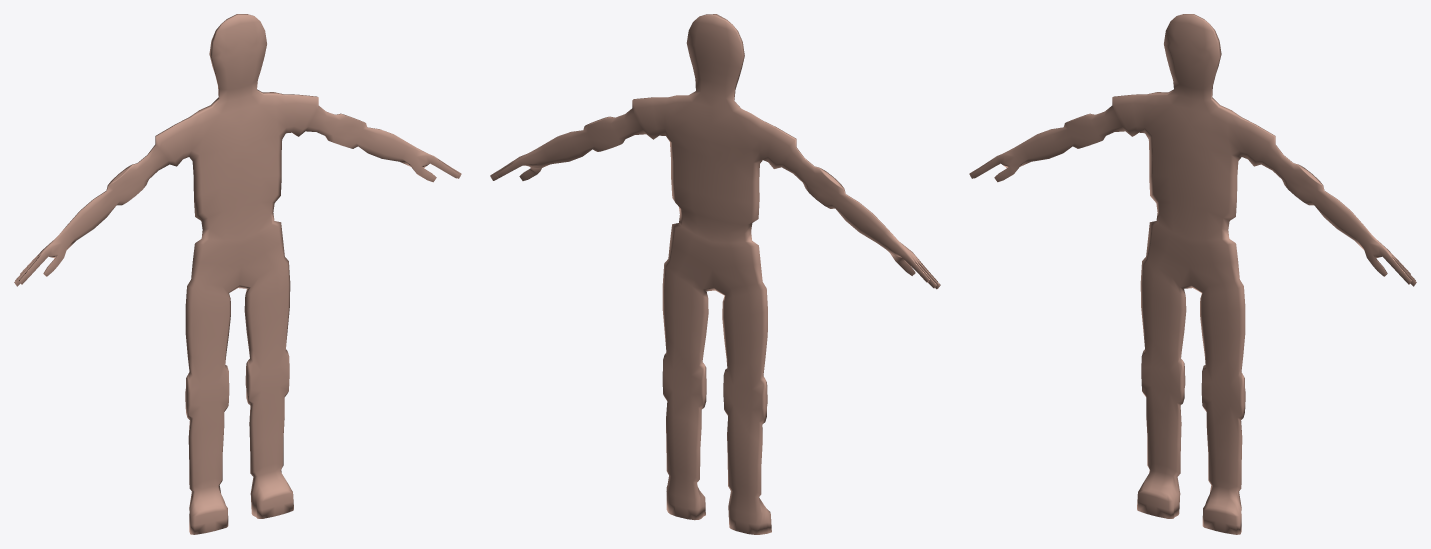
The model's file is TestCharacter (1).fbx.
3 renders of one model, left to right at view 1: azimuth 30°, elevation 25°; view 2: azimuth 150°, elevation 25°; view 3: azimuth 330°, elevation 25°, orthographic.
Visible parts, largest first — view 1: RobotHumanoid:robot; view 2: RobotHumanoid:robot; view 3: RobotHumanoid:robot.
Part boxes in pixels (bbox=[...]): RobotHumanoid:robot: bbox=[14, 14, 461, 534]; RobotHumanoid:robot: bbox=[490, 14, 940, 534]; RobotHumanoid:robot: bbox=[969, 14, 1416, 534].
Bounding box in the file's own units: 165 × 178 × 7.36.
